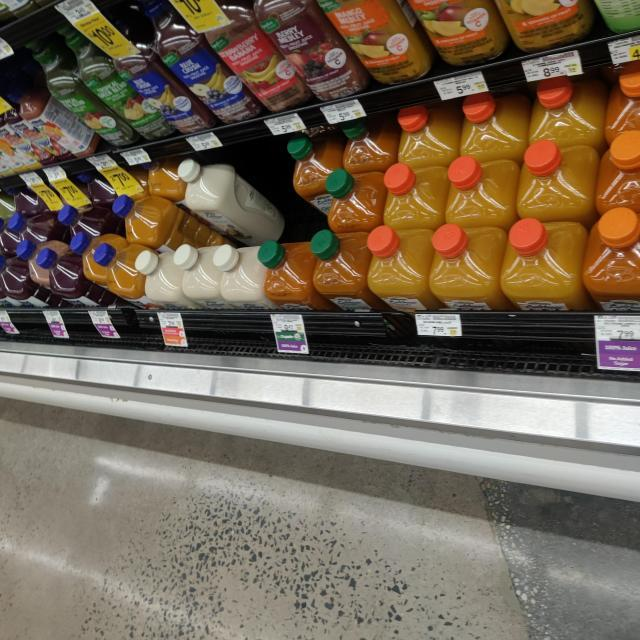Juice: (95, 6, 219, 142), (57, 20, 177, 142), (147, 0, 263, 124), (190, 0, 312, 113), (28, 36, 136, 146), (255, 0, 368, 100), (179, 158, 287, 246), (503, 219, 589, 311), (432, 228, 519, 313), (117, 197, 236, 253), (517, 144, 600, 223), (367, 226, 441, 312), (312, 232, 390, 312), (585, 208, 640, 310), (444, 155, 518, 226), (37, 250, 123, 310), (287, 138, 349, 218), (96, 245, 162, 311), (383, 163, 446, 229), (325, 167, 386, 232), (21, 242, 73, 290)
